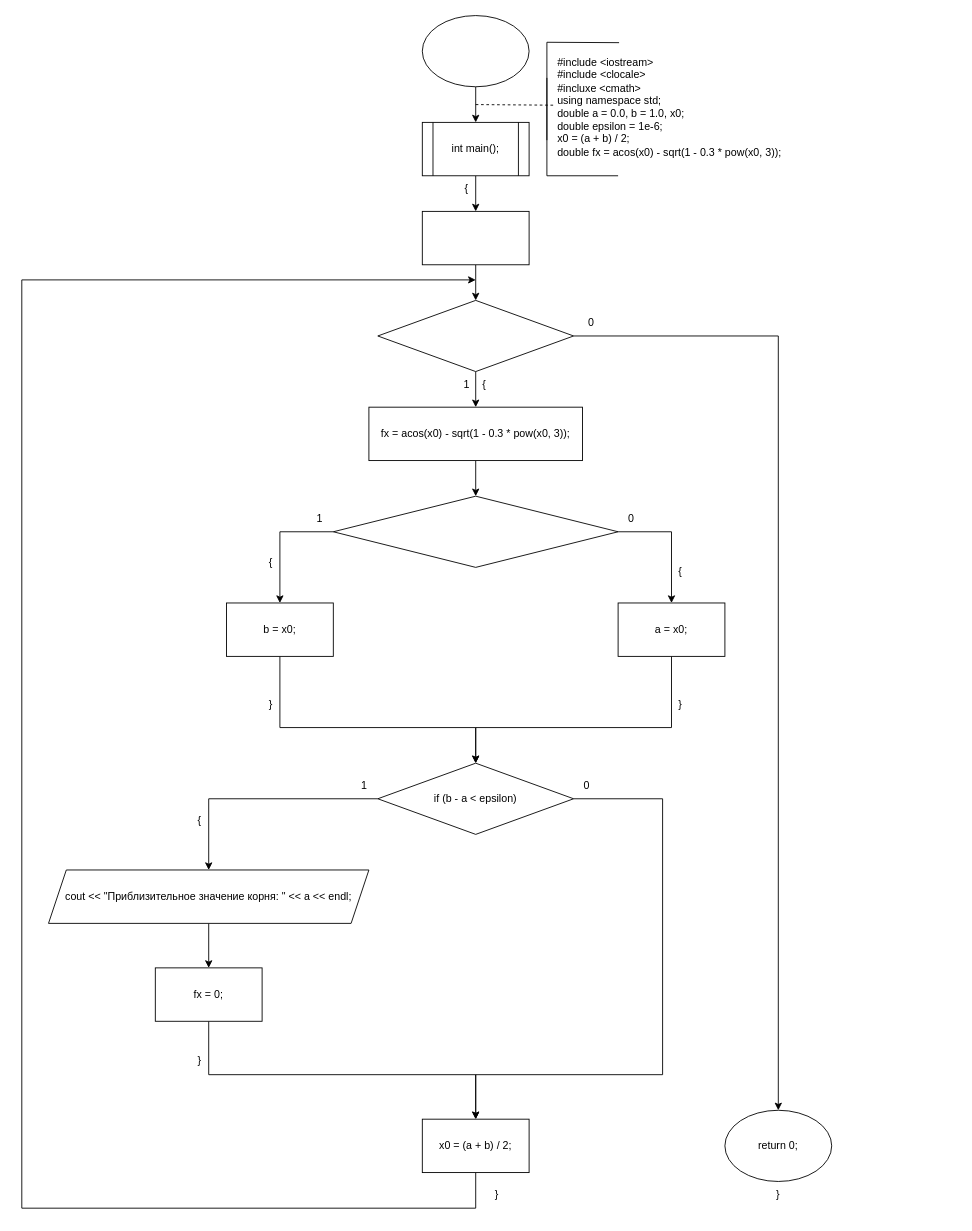
The diagram is 972 pixels wide and 1231 high, and some of its shapes have lost their labels. Here are the shapes that lost their labels. From the top down, the box of each, then its label:
(421, 15, 529, 87): Начало
(421, 210, 529, 265): setlocale(LC_ALL, "ru");
(377, 299, 574, 372): while (fx != 0)
(332, 495, 618, 567): if (fx * (acos(a) - sqrt(1 - 0.3 * pow(a, 3))) < 0)
